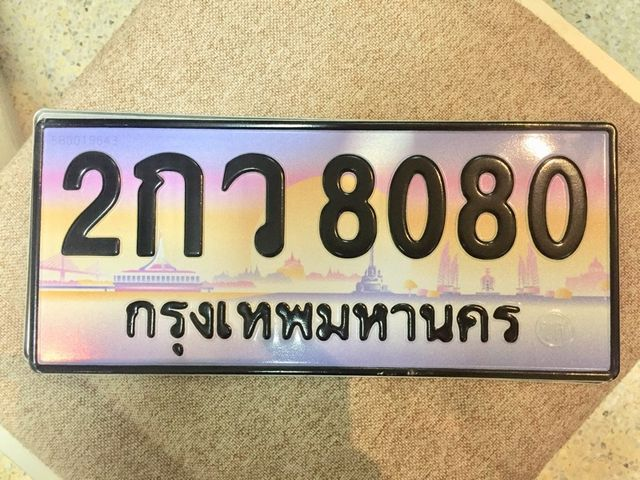Bangkok: (118, 284, 524, 364)
